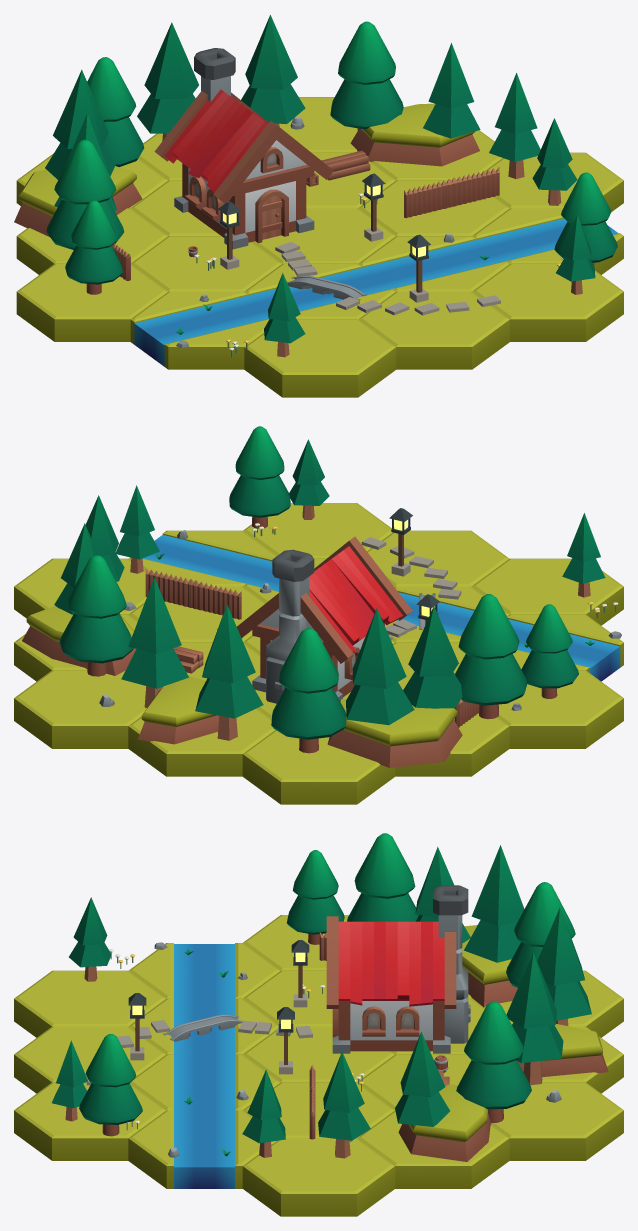
The model's file is environment.glb.
3 views of the same model, one above another, from view 1: azimuth 30°, elevation 25°; view 2: azimuth 150°, elevation 25°; view 3: azimuth 270°, elevation 25° (orthographic).
Parts seen in each view (by area): view 1: Cottage - original editable mesh, Meadow [0,-2], Creek [-1,-1], Meadow [1,-2], Meadow [2,-2], Meadow [-2,0], Creek [1,-1], Meadow [-1,0], Pine 07, Low hill 3, Creek [2,-1], Meadow [0,0] (+28 smaller); view 2: Cottage - original editable mesh, Meadow [0,2], Meadow [-2,2], Meadow [-2,0], Meadow [0,-2], Pine 04, Pine 01, Creek [2,-1], Pine 07, Low hill 1, Meadow [1,-2], Meadow [-1,2] (+26 smaller); view 3: Cottage - original editable mesh, Meadow [2,0], Creek [2,-1], Meadow [0,2], Meadow [0,-2], Creek [-1,-1], Creek [1,-1], Meadow [2,-2], Pine 07, Meadow [1,1], Creek [0,-1], Meadow [1,-2] (+25 smaller).
Part boxes in pixels (x1,y1,x2,y2): Cottage - original editable mesh: (154,48,333,249); Meadow [0,-2]: (244,319,396,397); Creek [-1,-1]: (130,291,269,369); Meadow [1,-2]: (358,291,509,369); Meadow [2,-2]: (472,263,623,341); Meadow [-2,0]: (16,263,167,341); Creek [1,-1]: (358,236,509,291); Meadow [-1,0]: (131,236,281,291); Pine 07: (330,21,403,130); Low hill 3: (350,103,479,166); Creek [2,-1]: (472,208,623,274); Meadow [0,0]: (253,208,395,263); Cottage - original editable mesh: (237,536,412,703); Meadow [0,2]: (14,670,146,748); Meadow [-2,2]: (242,730,395,804); Meadow [-2,0]: (497,670,623,748); Meadow [0,-2]: (472,558,623,625); Pine 04: (271,628,346,753); Pine 01: (455,594,527,719); Creek [2,-1]: (128,530,276,586); Pine 07: (59,555,133,676); Low hill 1: (327,699,462,767); Meadow [1,-2]: (367,530,509,586); Meadow [-1,2]: (128,708,275,776); Cottage - original editable mesh: (326,885,470,1053); Meadow [2,0]: (242,1138,395,1216); Creek [2,-1]: (128,1110,276,1188); Meadow [0,2]: (491,1082,623,1160); Meadow [0,-2]: (14,970,166,1037); Creek [-1,-1]: (128,943,280,999); Creek [1,-1]: (130,1054,280,1111); Meadow [2,-2]: (14,1082,166,1160); Pine 07: (456,1001,531,1122); Meadow [1,1]: (357,1110,509,1188); Creek [0,-1]: (128,998,278,1055); Meadow [1,-2]: (14,1026,165,1093).
Bounding box in the file's own units: 10 × 2.77 × 9.24.
Materials: 25 (18 with a texture image).
